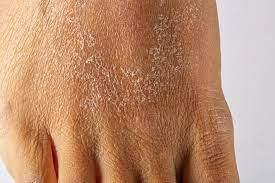Dry-Skin: (77, 87, 106, 160), (70, 37, 115, 72), (118, 106, 153, 137), (155, 48, 180, 82), (151, 17, 205, 28), (28, 55, 53, 78), (111, 13, 139, 31), (53, 6, 80, 20), (20, 108, 37, 129), (198, 94, 210, 108)
